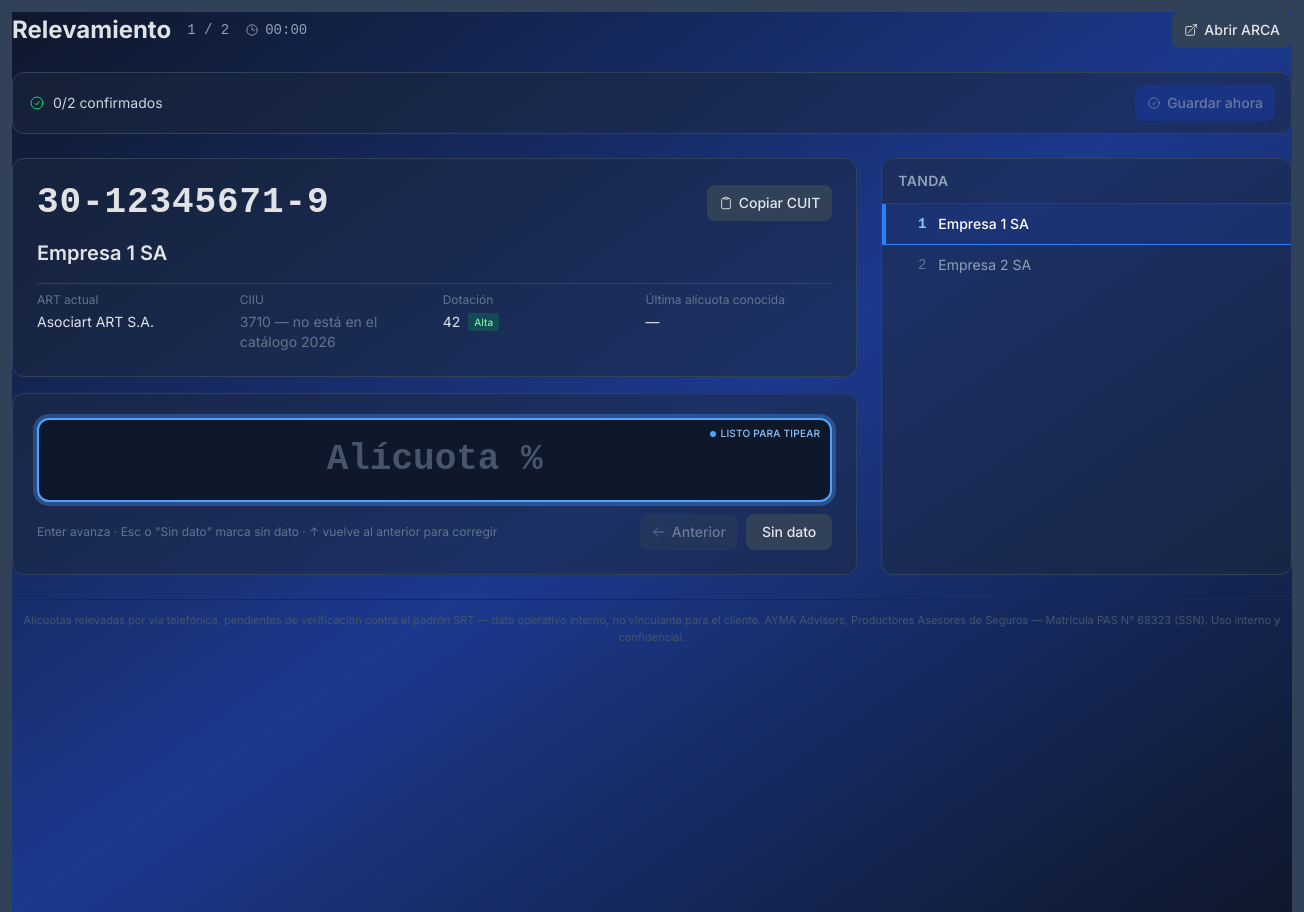
Test: ArtRelevamientoAlicuotas › Escape marca "sin dato" y avanza; al completar la tanda envía el lote automáticamente
Press Escape in the field with placeholder "Alícuota %", box [37, 418, 832, 502]
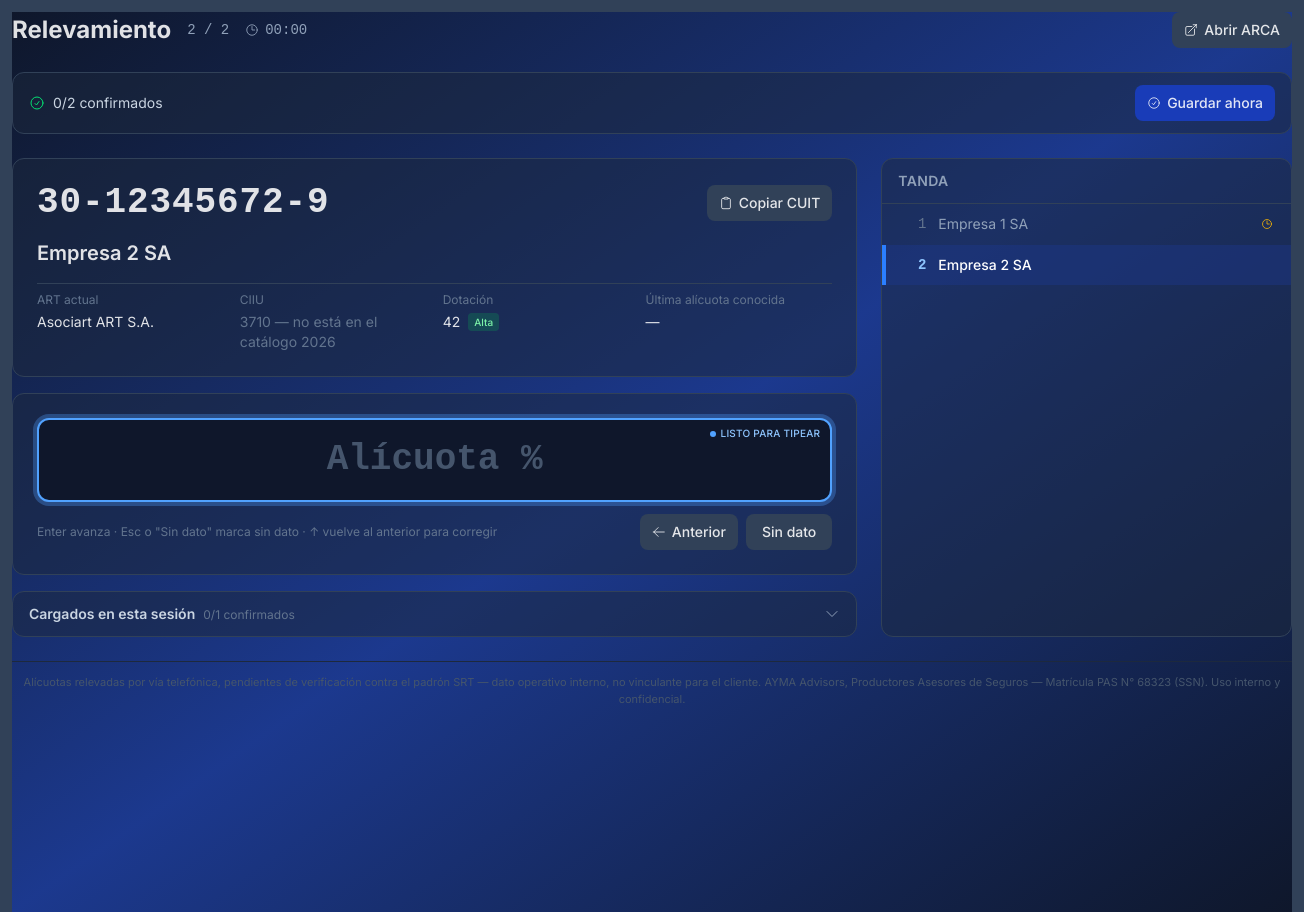
Expected: the text "Empresa 2 SA" is shown, [37, 241, 171, 265]
Type "4.5" into the field with placeholder "Alícuota %". click: coordinates (435, 460)
box: [37, 418, 832, 502]
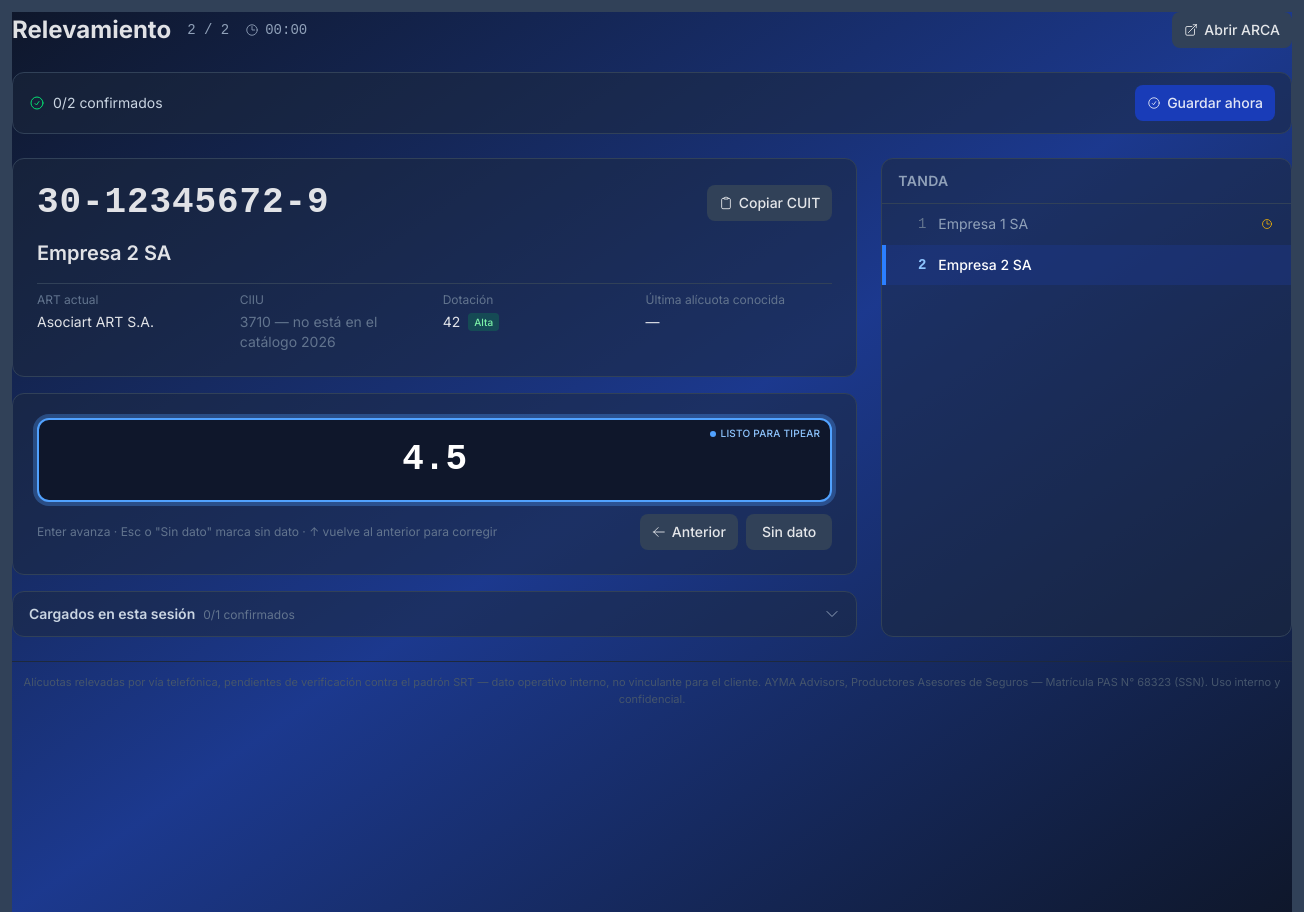
Press Enter in the field, box [37, 418, 832, 502]
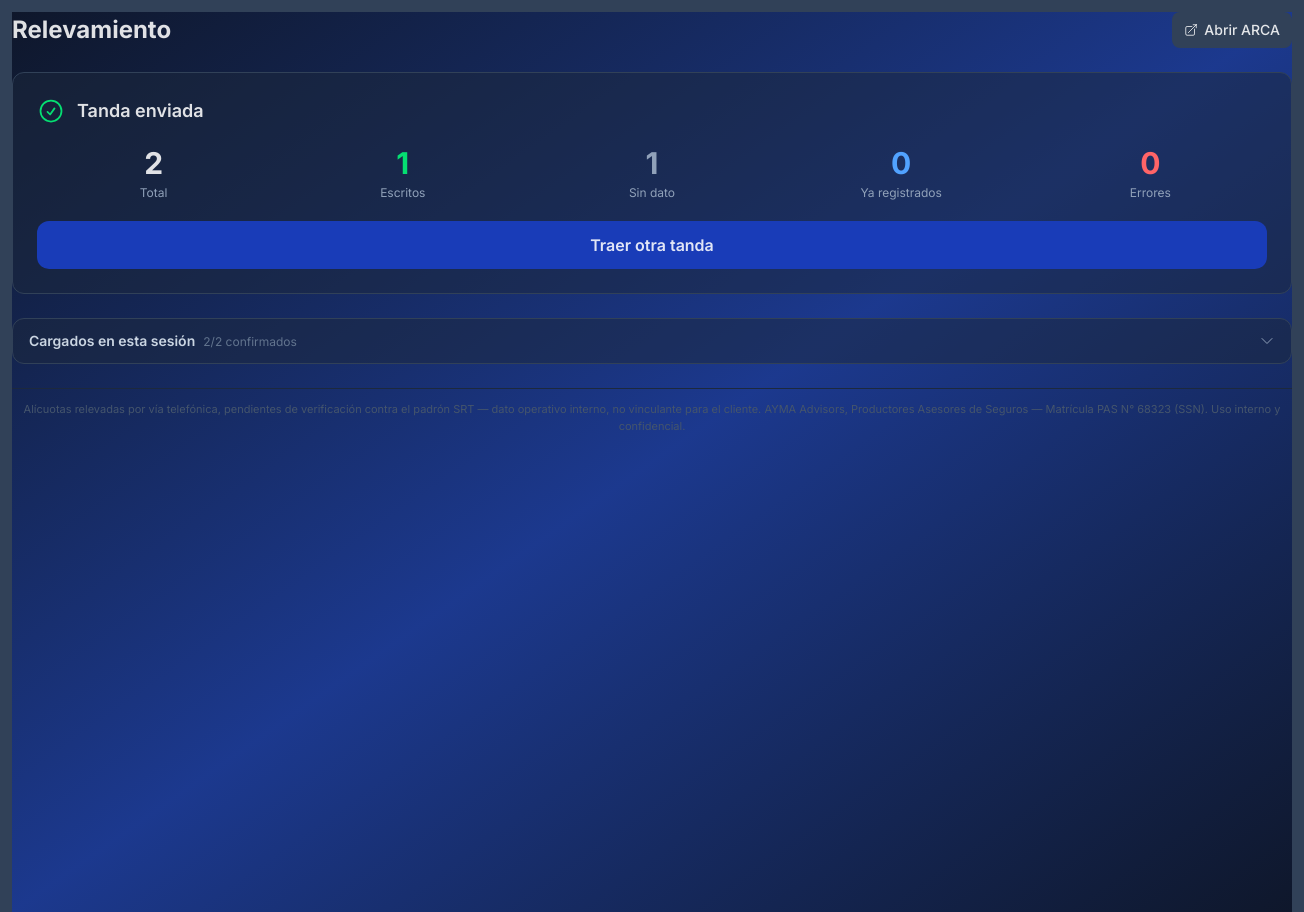
Expected: the text "Tanda enviada" is shown, [77, 97, 204, 125]
Expected: the text "Escritos" is shown, [380, 185, 425, 200]
